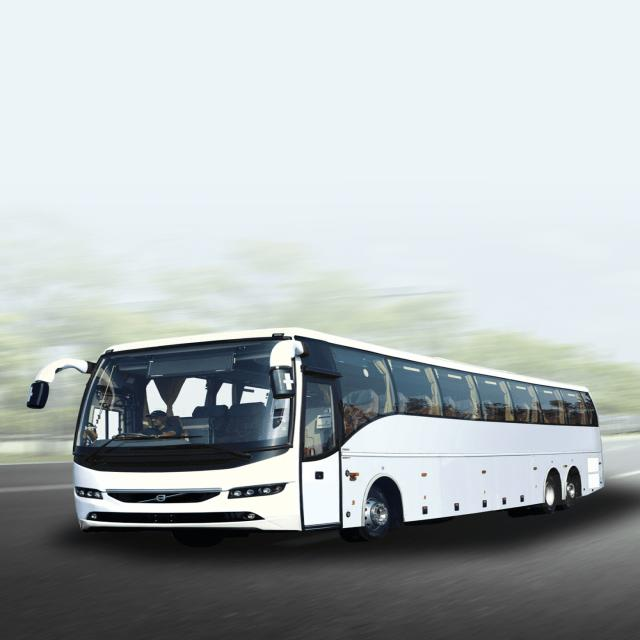bus: (70, 330, 607, 548)
